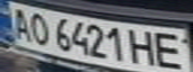1: (106, 25, 127, 62)
2: (84, 21, 106, 60)
4: (66, 19, 87, 56)
6: (48, 16, 75, 52)
A: (6, 4, 36, 42)
E: (151, 29, 190, 71)
H: (127, 26, 160, 66)
O: (24, 10, 54, 46)
